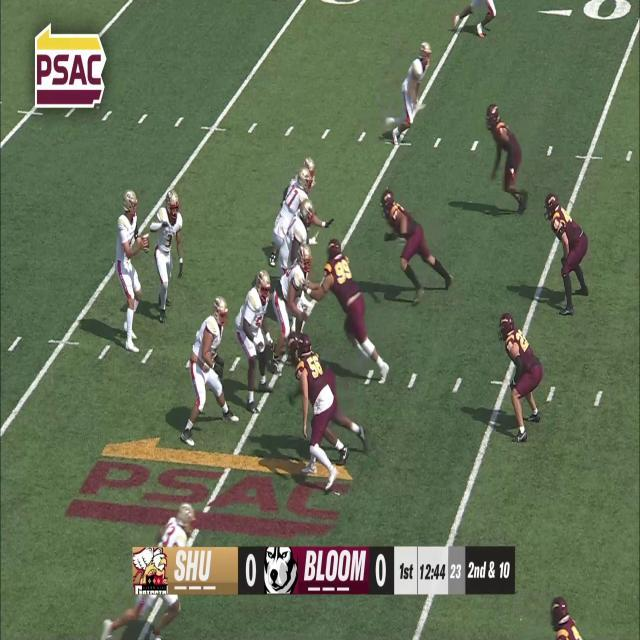football: (140, 230, 150, 253)
